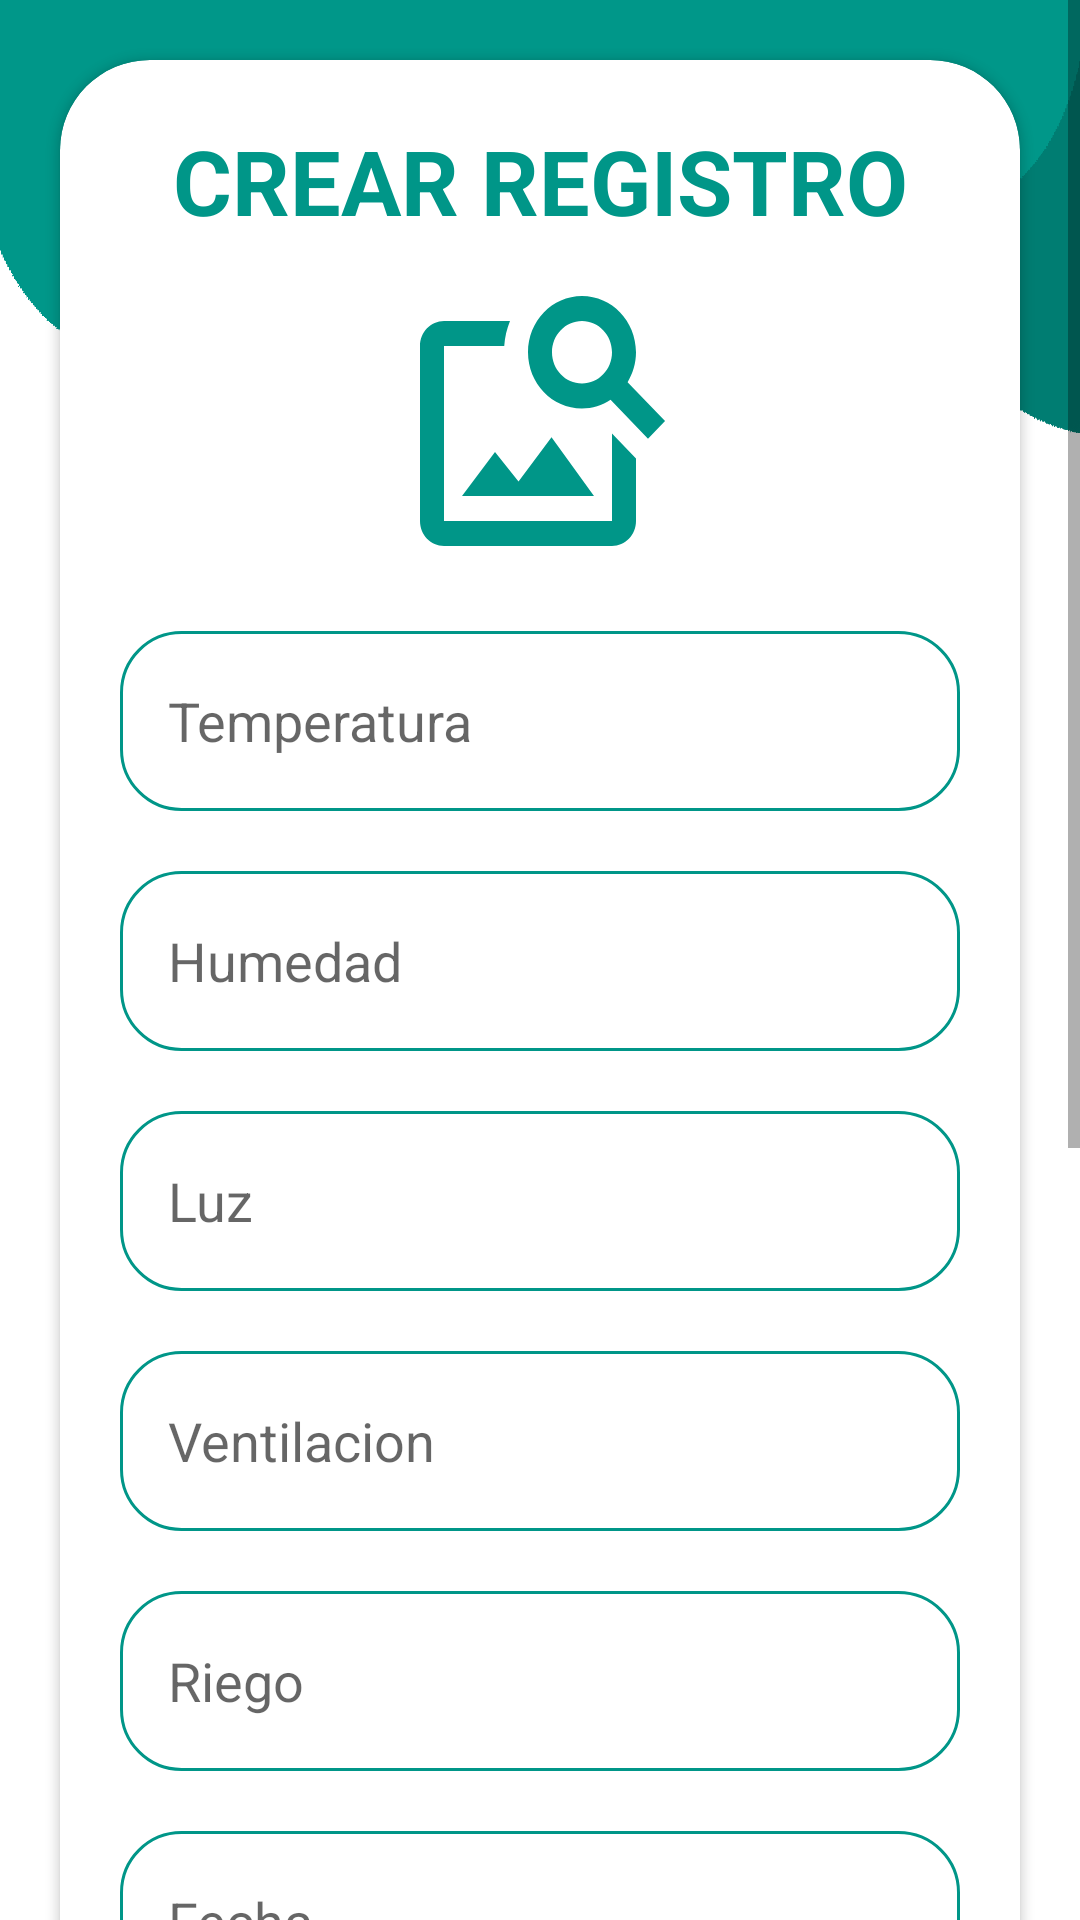

Screen size 1080 × 1920. Icon name, then its center in pixels as point (x, y):
search: point (542, 421)
